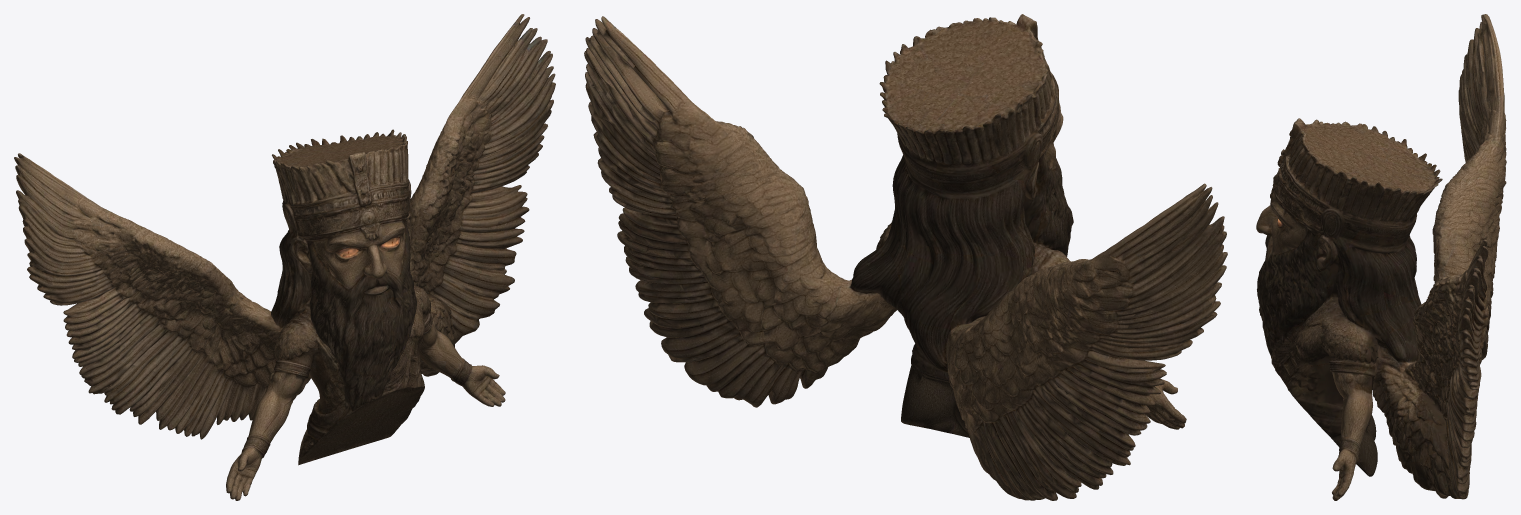
File: timechainb.glb
3 renders of one model, left to right at view 1: azimuth 30°, elevation 25°; view 2: azimuth 150°, elevation 25°; view 3: azimuth 270°, elevation 25°, orthographic. The views are drawn at different scales.
Parts seen in each view (by area): view 1: mesh_node; view 2: mesh_node; view 3: mesh_node.
Boxes of the visible parts, x1,y1,x2,y2 form: mesh_node: (14, 14, 555, 500); mesh_node: (584, 14, 1227, 500); mesh_node: (1256, 14, 1506, 500).
Size of the model in its own units: 1.9 by 1.14 by 0.7789.
1 material, 1 textured.
